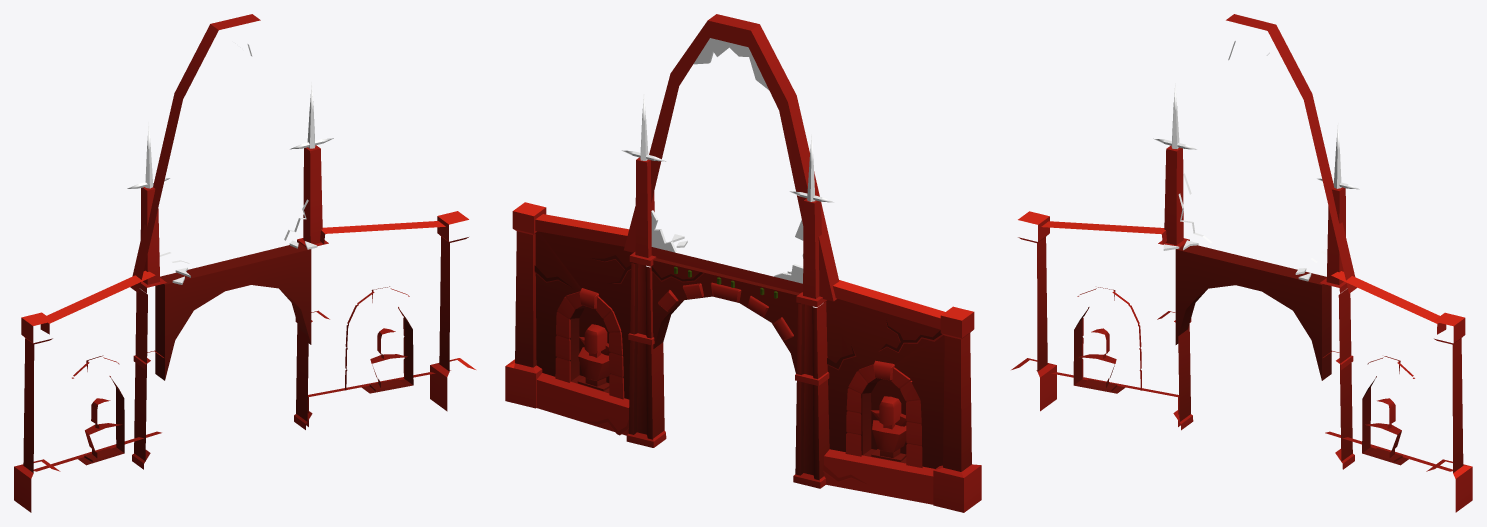
Rendered from 1.100_SanFrancisco_event_01.glb.
3 renders of one model, left to right at view 1: azimuth 30°, elevation 25°; view 2: azimuth 150°, elevation 25°; view 3: azimuth 330°, elevation 25°, orthographic. The views are drawn at different scales.
Parts seen in each view (by area): view 1: 1.100_SanFrancisco_event_01; view 2: 1.100_SanFrancisco_event_01; view 3: 1.100_SanFrancisco_event_01.
Part boxes in pixels (x1=…): 1.100_SanFrancisco_event_01: x1=14, y1=14, x2=475, y2=512; 1.100_SanFrancisco_event_01: x1=505, y1=14, x2=981, y2=512; 1.100_SanFrancisco_event_01: x1=1011, y1=14, x2=1472, y2=512.
Size of the model in its own units: 213 by 194 by 23.21.
Materials: 2 (1 with a texture image).
